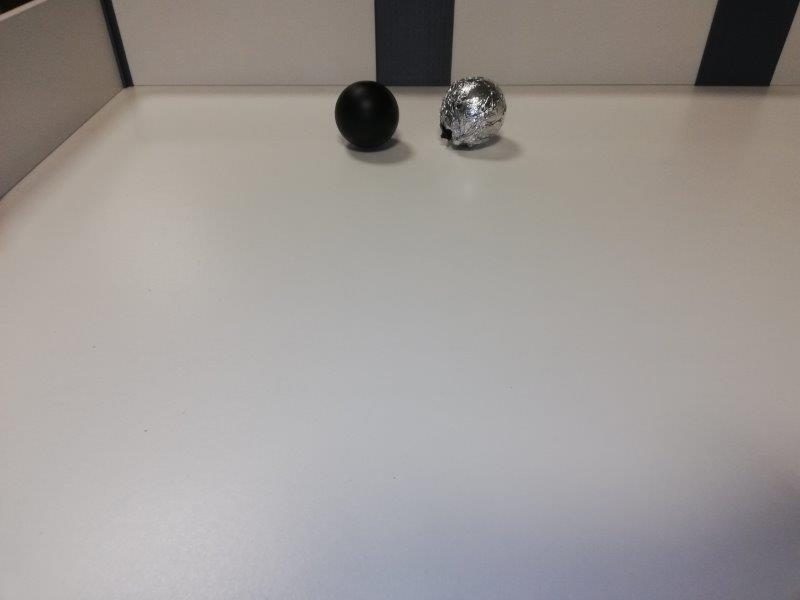bianca: (437, 76, 506, 148)
nera: (333, 79, 401, 150)
